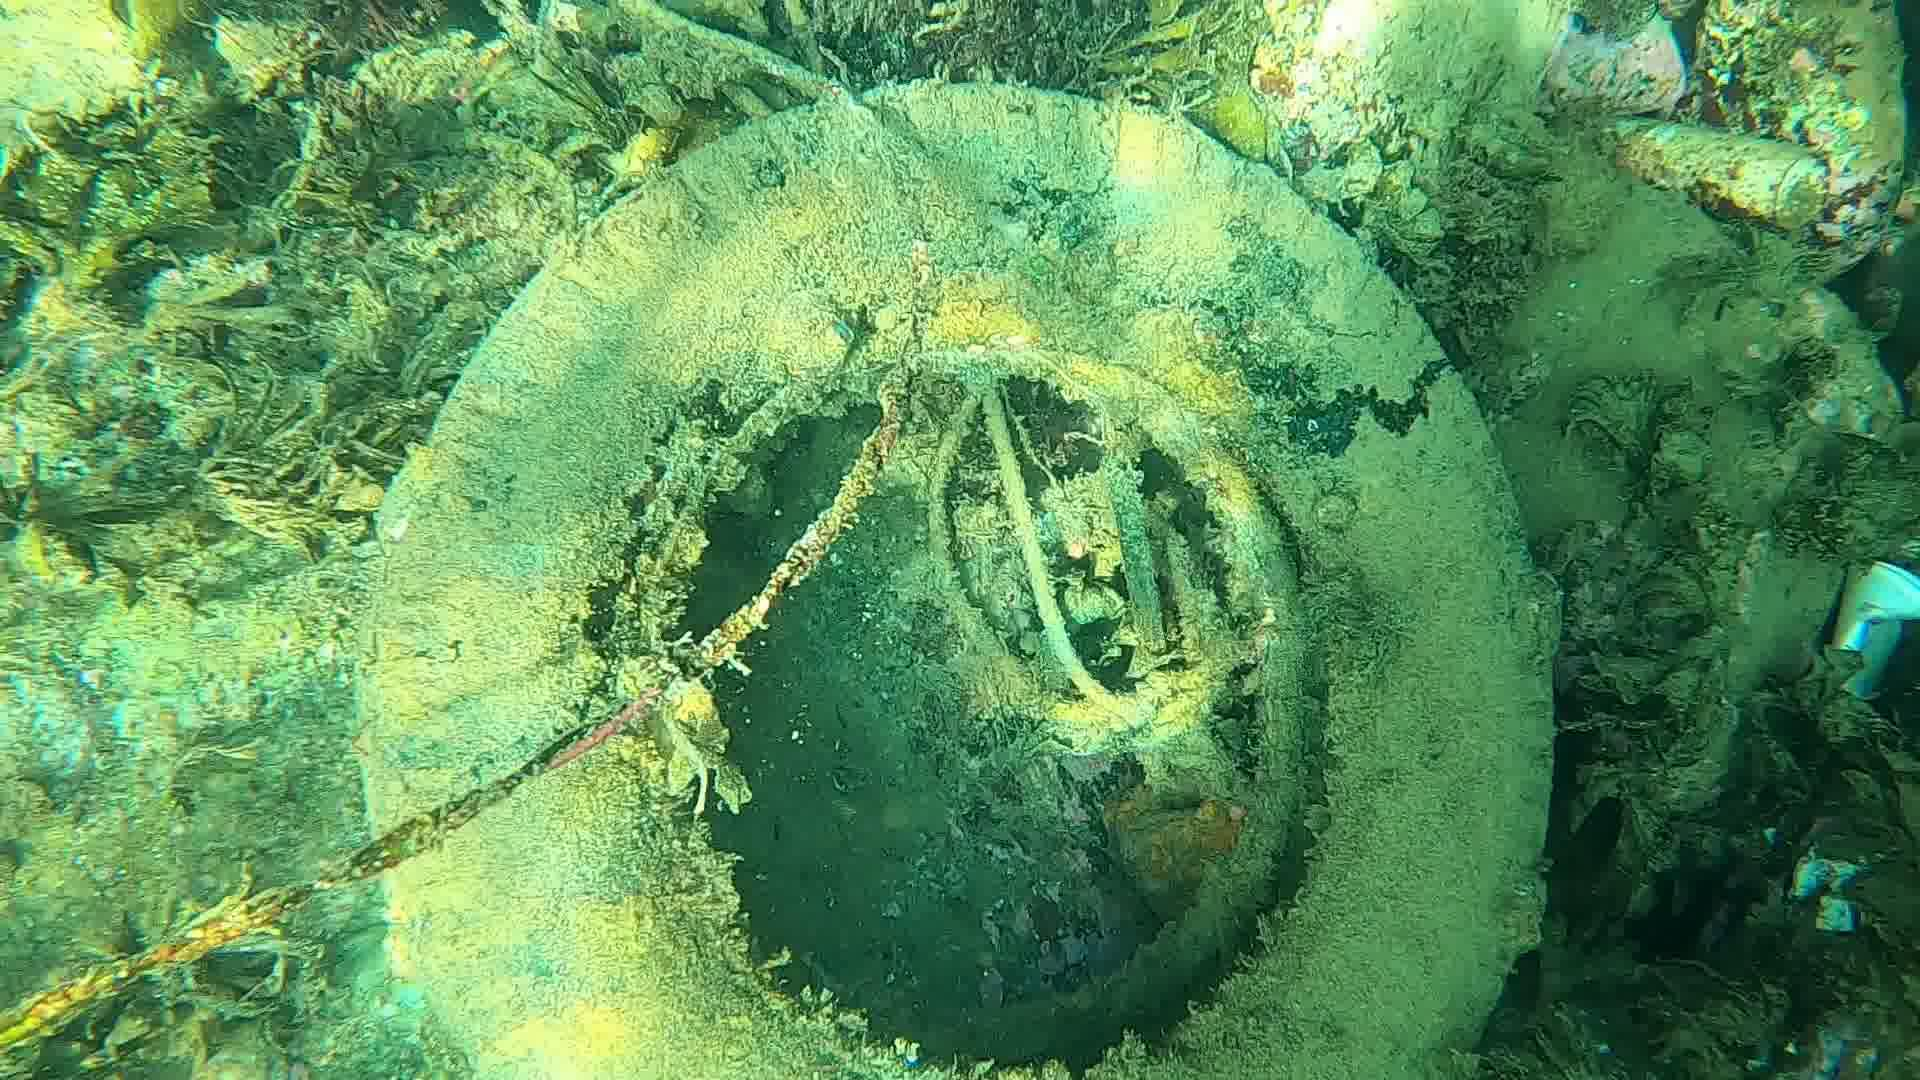tire: (357, 79, 1561, 1080)
